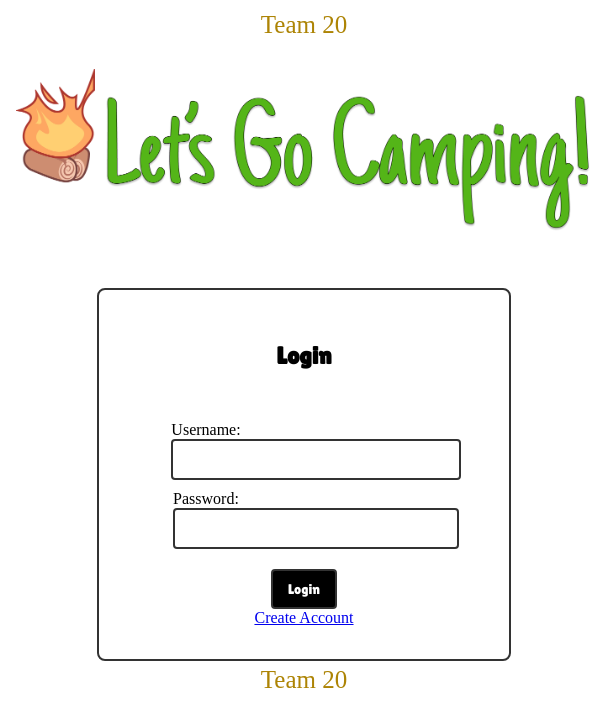
Test: Login Component › displays error when fetch operation throws an exception
Note: Fill in the form and submit it
Type "testUser" into the field labelled "Username:" at (316, 460), box [171, 439, 461, 480]
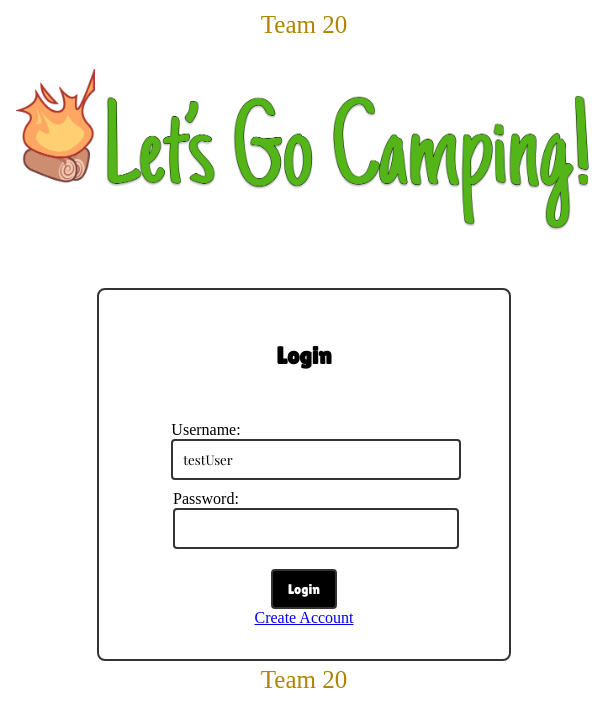
Type "Password123" into the password field labelled "Password:" at (316, 529), box [173, 508, 459, 549]
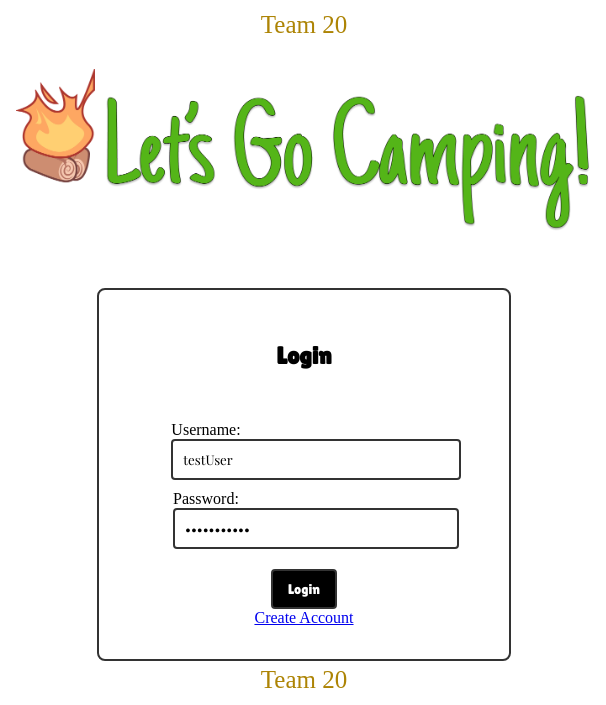
Click the button "Login" at (304, 589), box [271, 569, 337, 609]
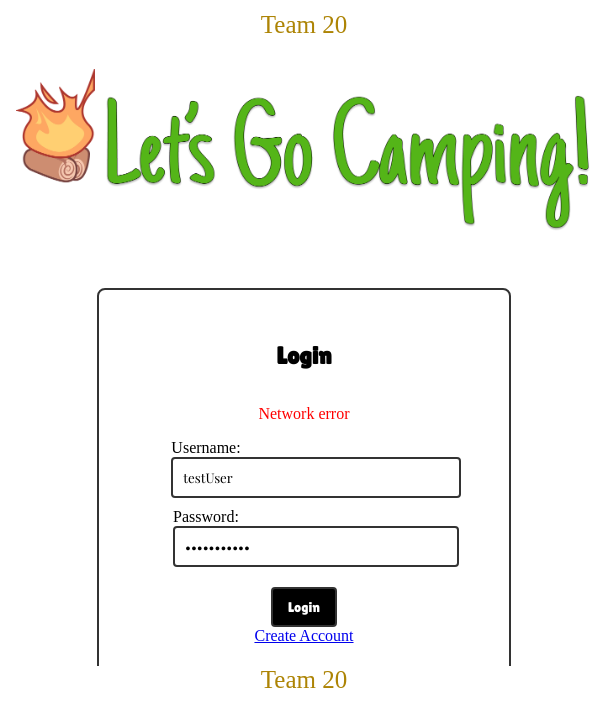
Check: the text "Network error" is shown, box [258, 405, 350, 423]
